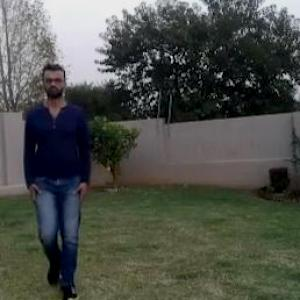follow: (28, 78, 91, 273)
